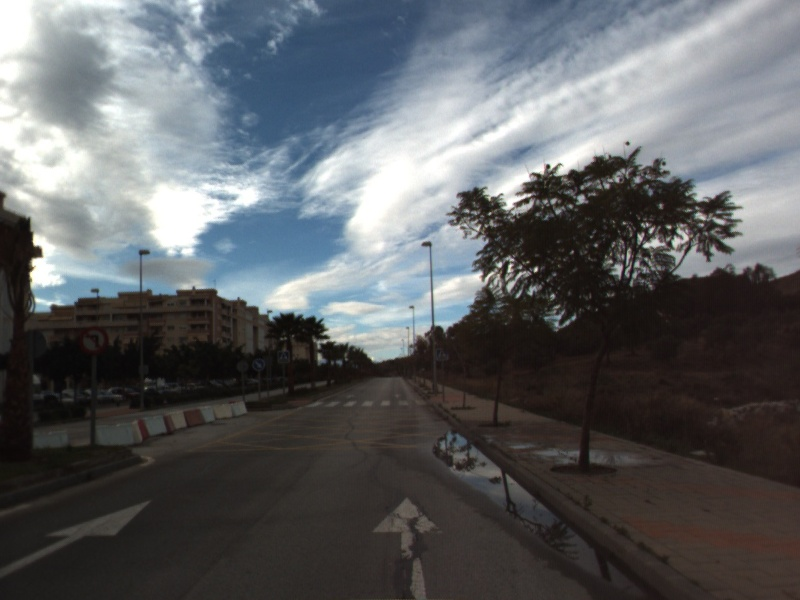STRAIGHT: (1, 498, 154, 579), (370, 495, 447, 600)
